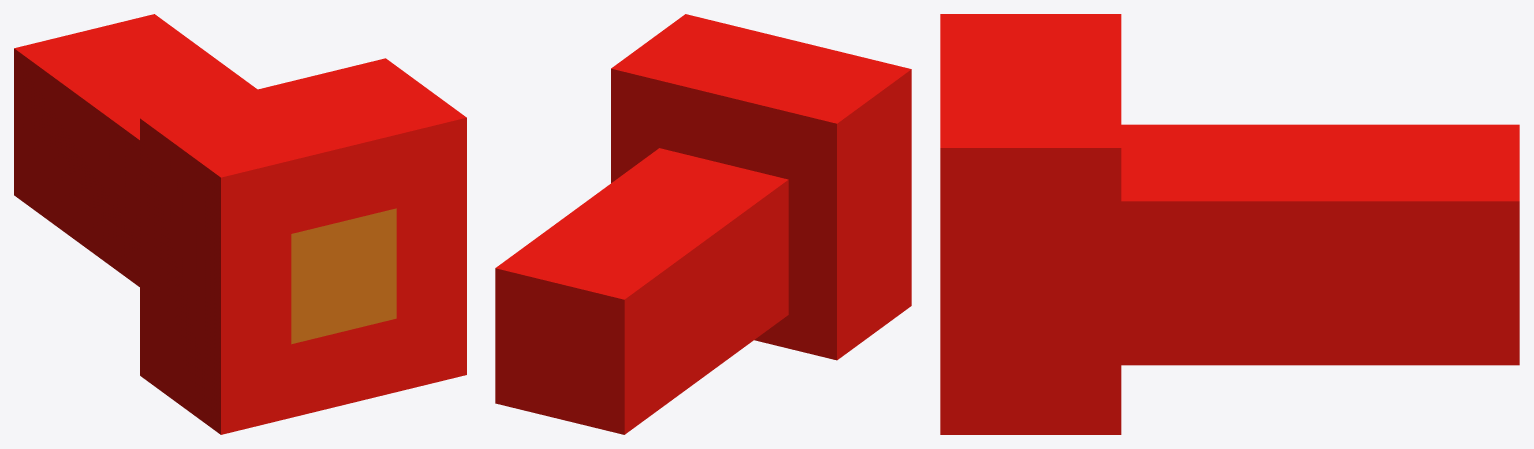
The model's file is FlameProjectorA.fbx.
3 renders of one model, left to right at view 1: azimuth 30°, elevation 25°; view 2: azimuth 150°, elevation 25°; view 3: azimuth 270°, elevation 25°, orthographic. The views are drawn at different scales.
Parts seen in each view (by area): view 1: Cube.009, Cube.006, Cube.008, Cube.010, Cube.007, Cube.011; view 2: Cube.006, Cube.009, Cube.010, Cube.008; view 3: Cube.006, Cube.008, Cube.010, Cube.009.
Part boxes in pixels (x1,y1,x2,y2): Cube.009: [140, 101, 291, 434]; Cube.006: [14, 14, 257, 286]; Cube.008: [316, 58, 466, 391]; Cube.010: [210, 75, 396, 233]; Cube.007: [291, 208, 396, 344]; Cube.011: [291, 318, 396, 417]; Cube.006: [495, 148, 788, 434]; Cube.009: [772, 53, 911, 360]; Cube.010: [675, 30, 846, 175]; Cube.008: [611, 14, 749, 182]; Cube.006: [1121, 124, 1519, 365]; Cube.008: [940, 109, 1121, 434]; Cube.010: [940, 52, 1121, 109]; Cube.009: [940, 14, 1121, 52].
Bounding box in the file's own units: 106 × 106 × 194.
